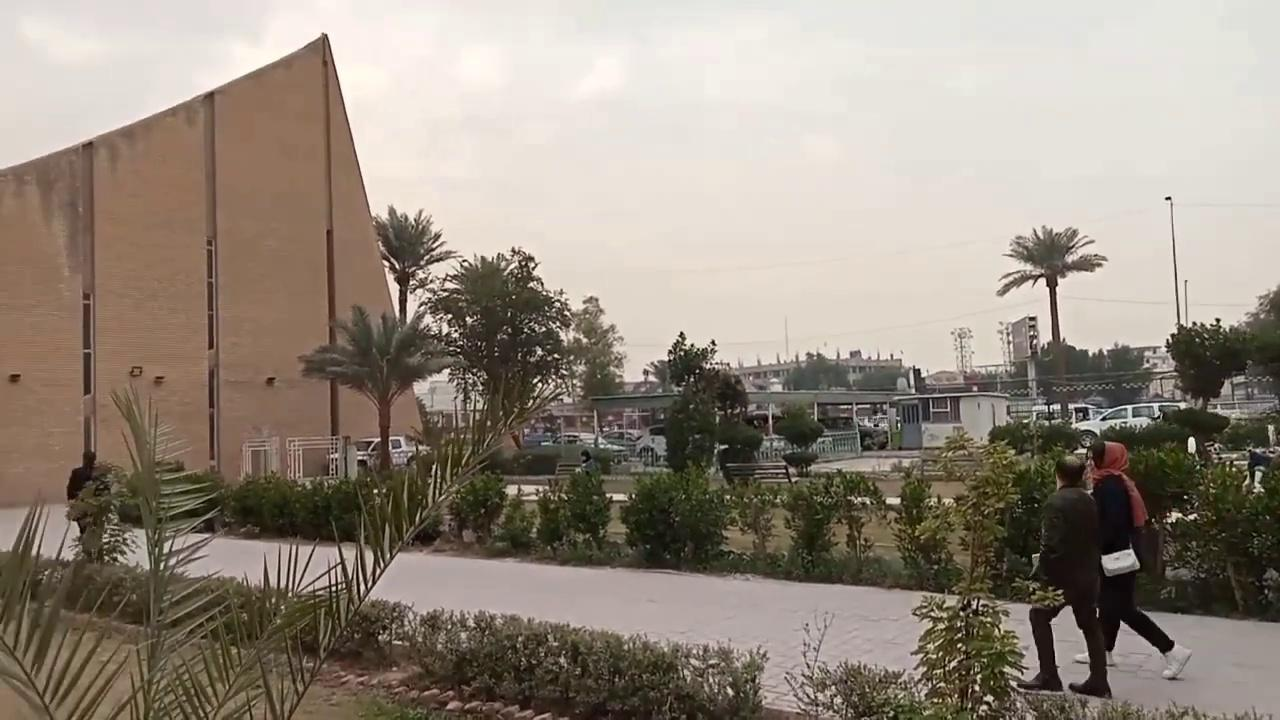car: (1070, 401, 1190, 448), (325, 434, 433, 473), (816, 414, 889, 450)
person: (1069, 439, 1193, 679), (1016, 455, 1113, 698), (65, 450, 102, 561), (1244, 445, 1275, 485), (579, 449, 601, 475)
tree: (65, 382, 229, 716), (895, 429, 1065, 718), (423, 246, 575, 454), (296, 303, 458, 473), (995, 223, 1107, 419), (1163, 451, 1279, 619), (642, 330, 755, 474), (619, 463, 733, 571), (369, 203, 457, 325), (1163, 316, 1253, 410), (565, 293, 627, 401), (662, 385, 716, 474), (560, 465, 612, 556), (643, 329, 718, 391), (448, 469, 507, 546), (1242, 285, 1279, 396), (1165, 406, 1230, 461)
